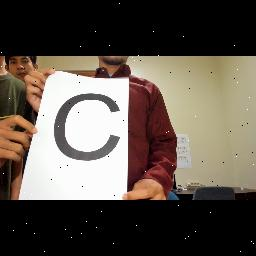c: (52, 91, 122, 163)
